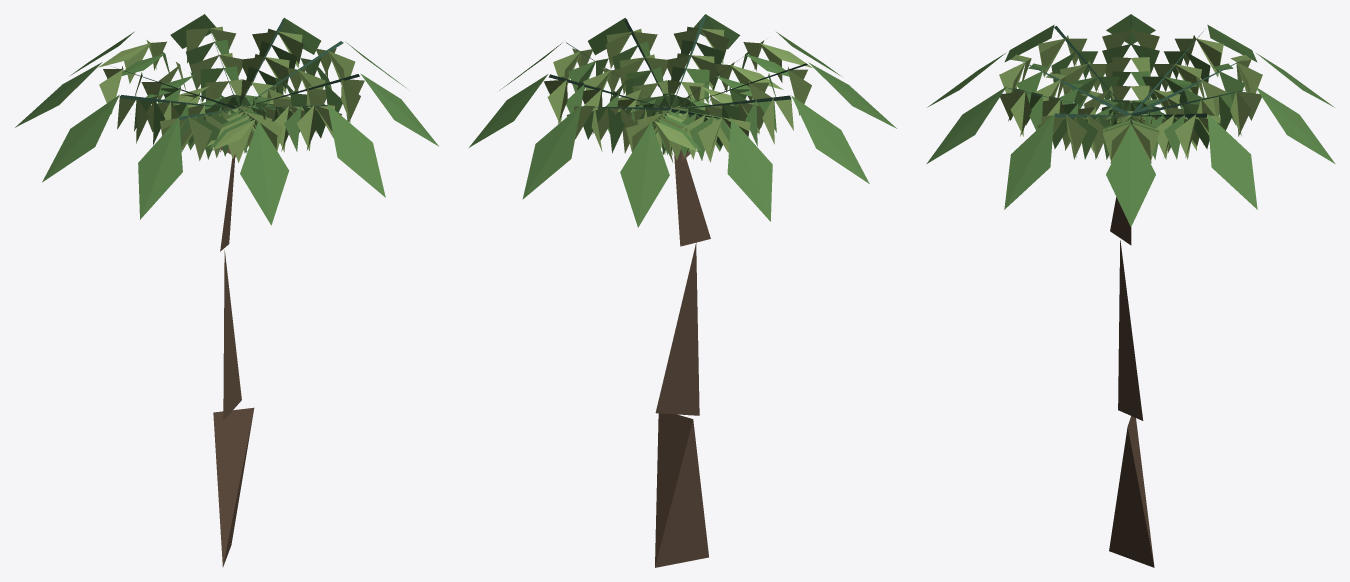
File: vegetation-palm.lod2.glb
3 views of the same model, side by side, from view 1: azimuth 30°, elevation 25°; view 2: azimuth 150°, elevation 25°; view 3: azimuth 270°, elevation 25° (orthographic).
Visible parts, largest first — view 1: vegetation-palm__body; view 2: vegetation-palm__body; view 3: vegetation-palm__body.
Boxes of the visible parts, <box> form: vegetation-palm__body: <box>15,14,438,566</box>; vegetation-palm__body: <box>469,14,896,567</box>; vegetation-palm__body: <box>926,14,1335,567</box>.
Bounding box in the file's own units: 4.8 × 6.06 × 4.57.
